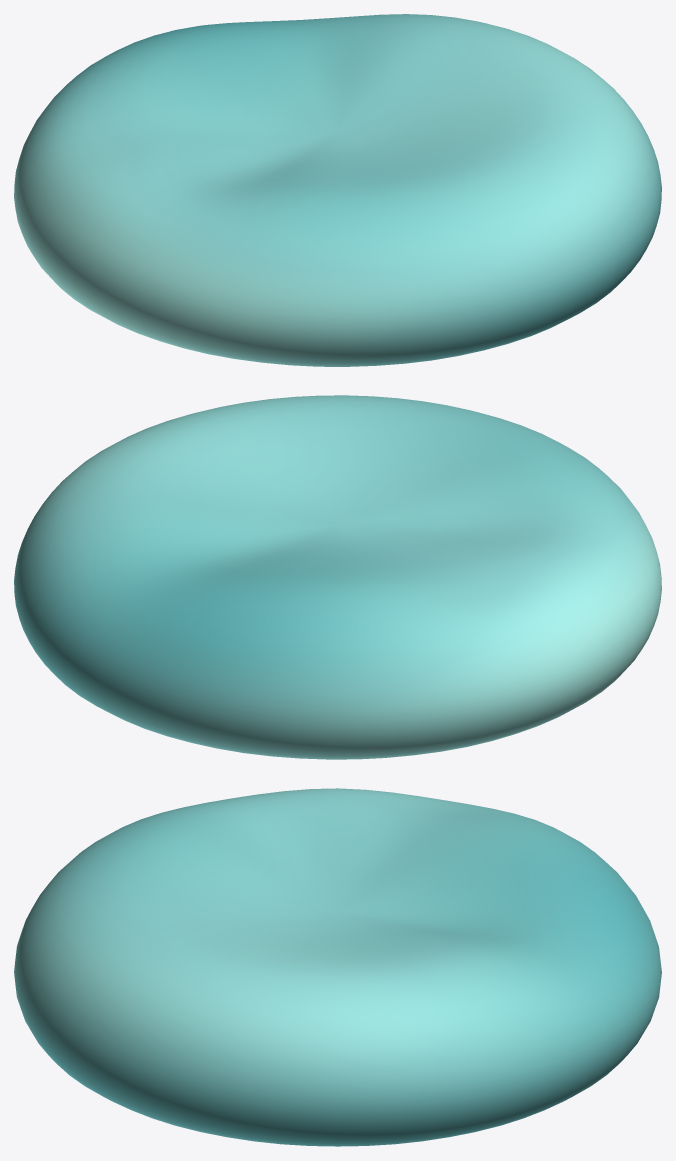
File: Cushion.fbx
3 views of the same model, one above another, from view 1: azimuth 30°, elevation 25°; view 2: azimuth 150°, elevation 25°; view 3: azimuth 270°, elevation 25° (orthographic).
Parts seen in each view (by area): view 1: Cushion; view 2: Cushion; view 3: Cushion.
Boxes of the visible parts, <box> form: Cushion: <box>14,14,661,366</box>; Cushion: <box>14,395,661,759</box>; Cushion: <box>14,788,661,1146</box>.
Bounding box in the file's own units: 0.4024 × 0.1039 × 0.4024.
